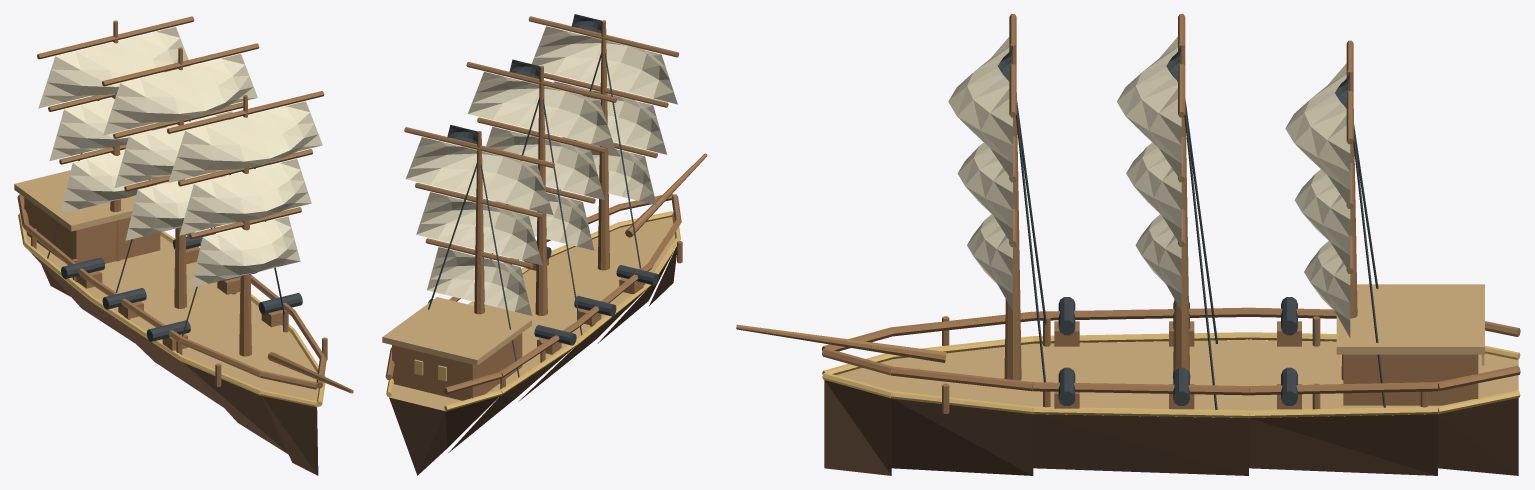
Rendered from ship_main_09.glb.
3 renders of one model, left to right at view 1: azimuth 30°, elevation 25°; view 2: azimuth 150°, elevation 25°; view 3: azimuth 270°, elevation 25°, orthographic. The views are drawn at different scales.
Parts seen in each view (by area): view 1: ship_large; view 2: ship_large; view 3: ship_large.
Part boxes in pixels (bbox=[...]): ship_large: bbox=[14, 16, 353, 475]; ship_large: bbox=[382, 14, 707, 475]; ship_large: bbox=[736, 14, 1520, 475].
Bounding box in the file's own units: 2.75 × 5.65 × 9.31.
